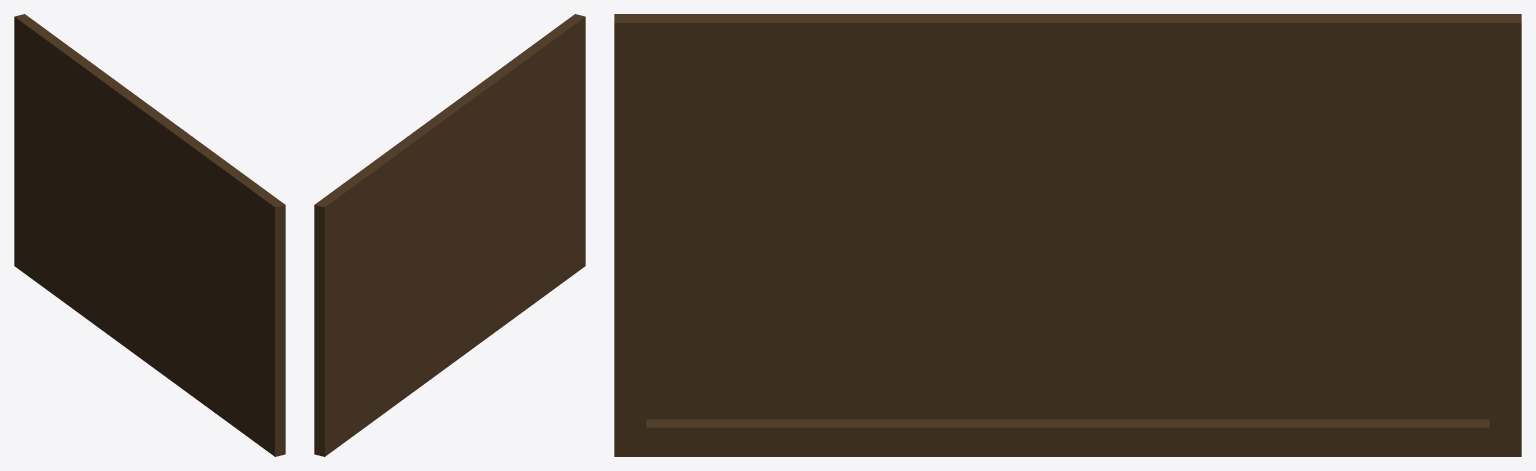
The model's file is Quadro1.fbx.
3 views of the same model, side by side, from view 1: azimuth 30°, elevation 25°; view 2: azimuth 150°, elevation 25°; view 3: azimuth 270°, elevation 25° (orthographic). The views are drawn at different scales.
Parts seen in each view (by area): view 1: Cube; view 2: Cube; view 3: Cube.
Boxes of the visible parts, <box> form: Cube: <box>14,14,285,456</box>; Cube: <box>314,14,585,456</box>; Cube: <box>614,14,1521,456</box>.
Size of the model in its own units: 48.43 by 1100 by 2085.
